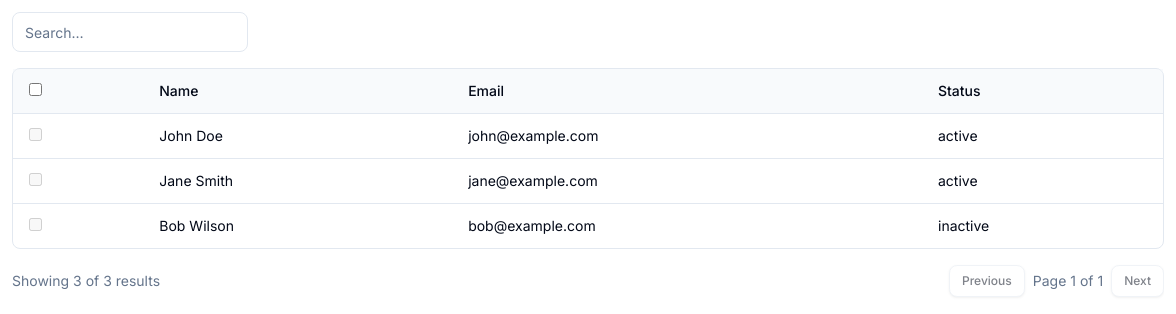
Test: DataTable Integration › filters data based on search
The width and height of the screenshot is (1176, 314).
In the field with placeholder "Search…": [130, 32] box x1=12 y1=12 x2=248 y2=52, type "Jane"
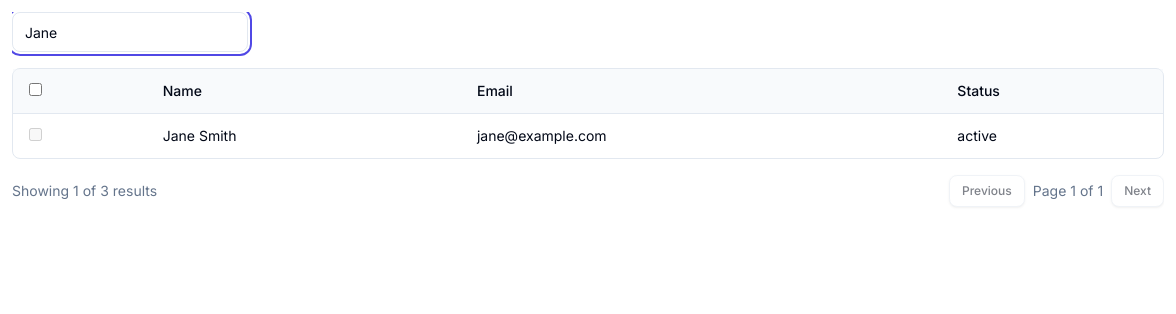
Check: the text "Jane Smith" is shown, box x1=147 y1=114 x2=461 y2=158
Check: the text "John Doe" is gone
